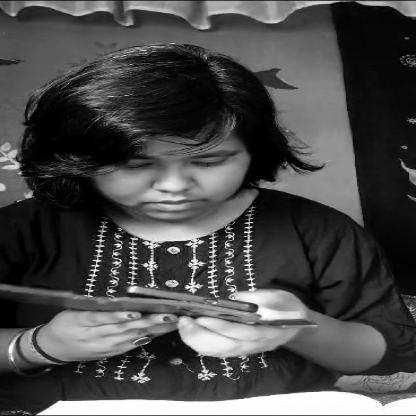Normal: (57, 103, 267, 224)
